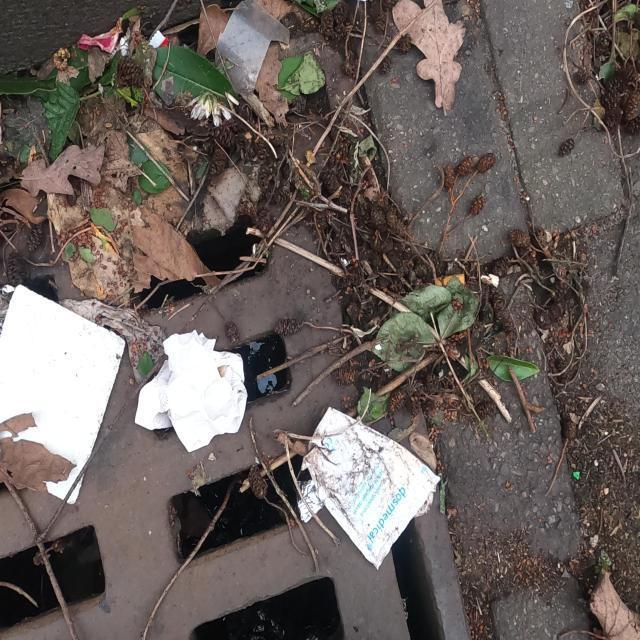Paper: (133, 330, 248, 456)
